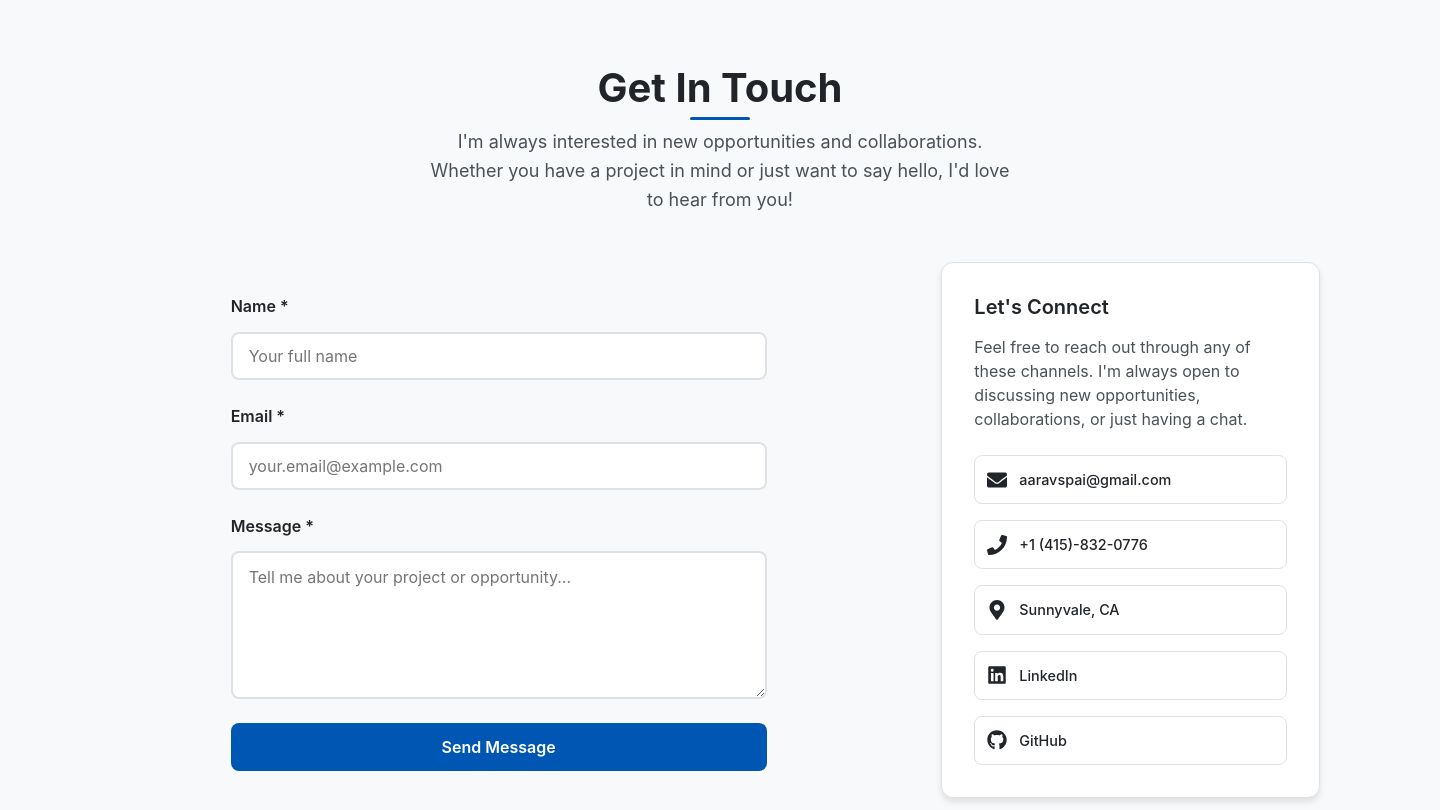
Scenario: Contact › Form Submission Error › shows error message on submission failure
The image size is (1440, 810).
In the field labelled "Name *": (499, 356) 231,332 -> 767,380, type "John Doe"
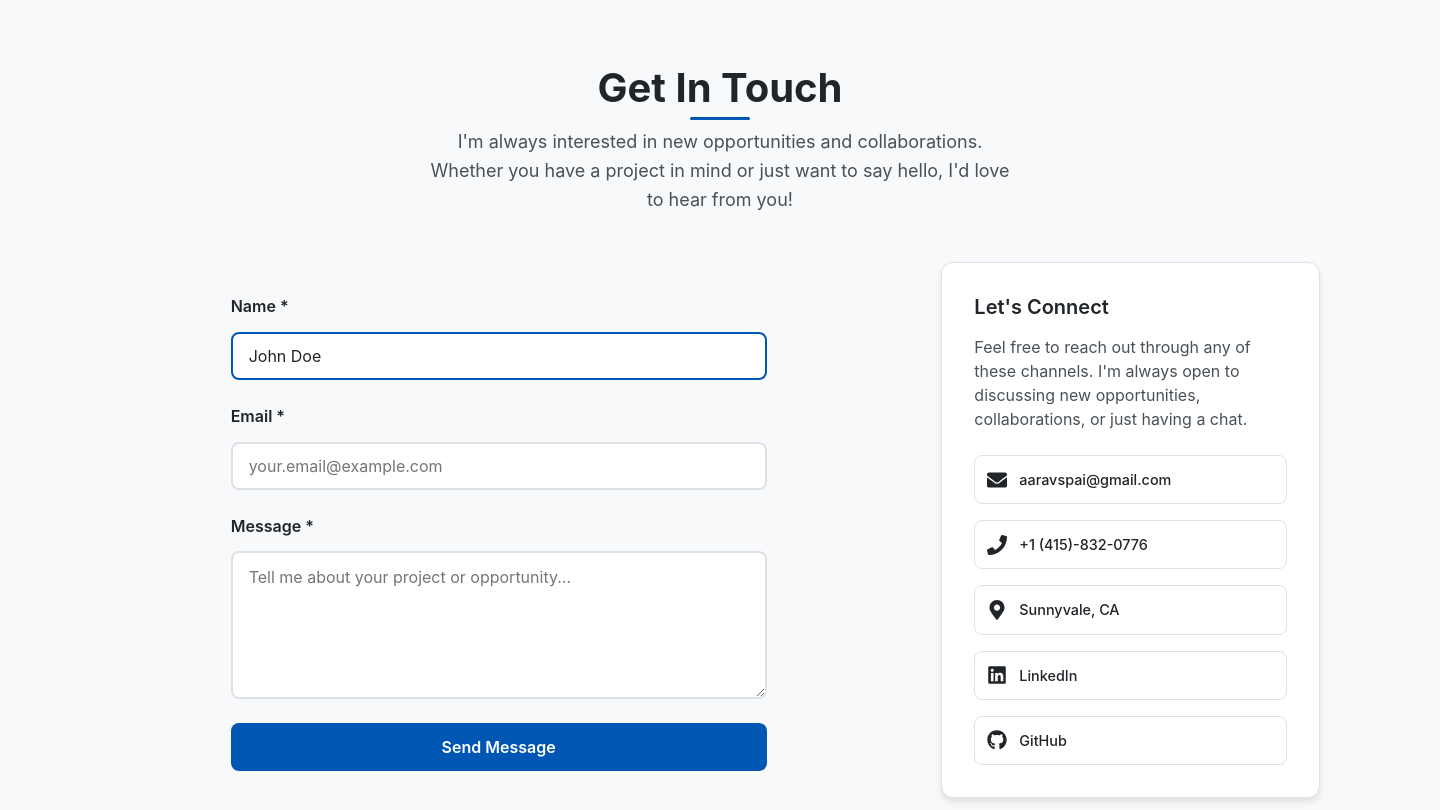
In the field labelled "Email *": (499, 466) 231,442 -> 767,490, type "john@example.com"
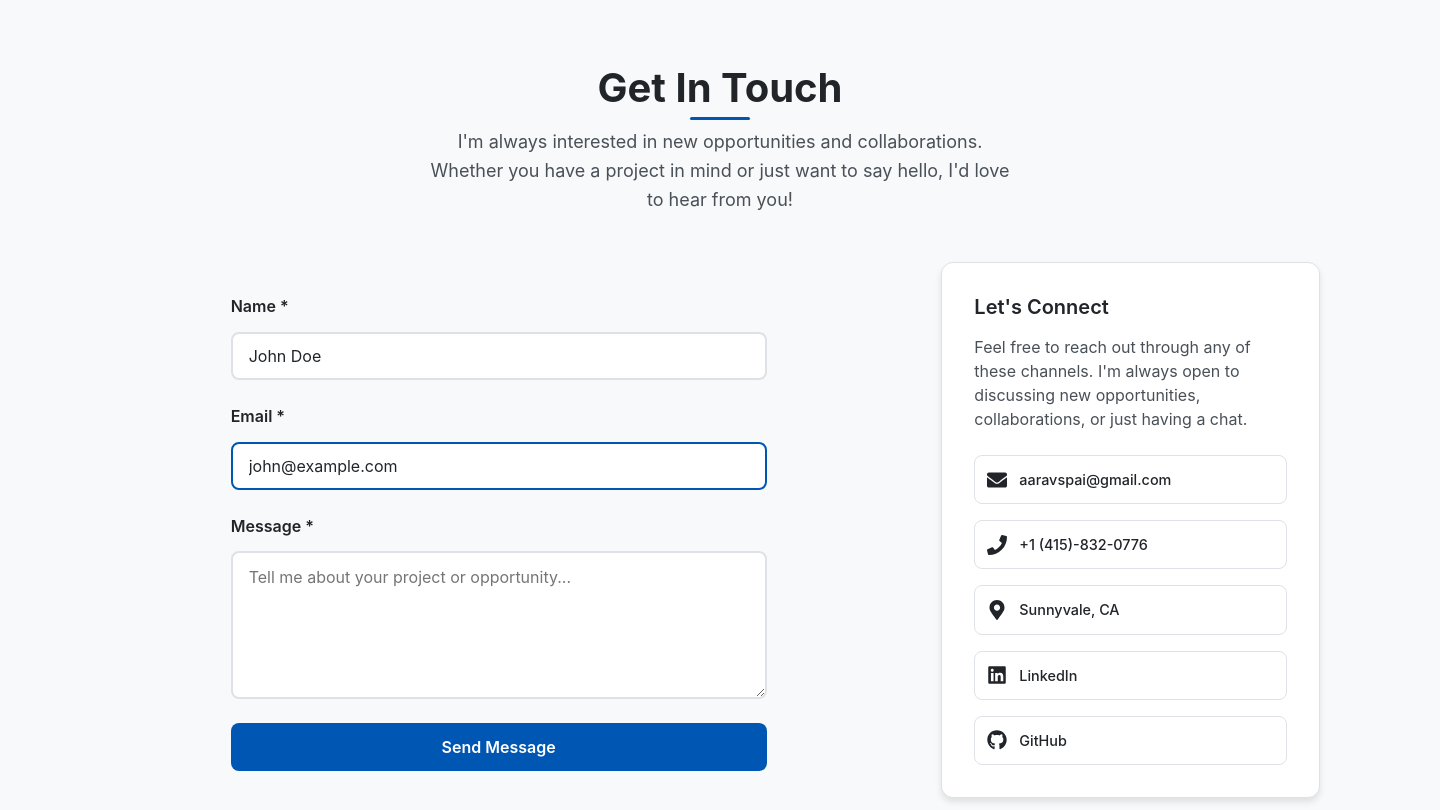
In the text box labelled "Message *": (499, 625) 231,551 -> 767,699, type "This is a test message with enough characters."
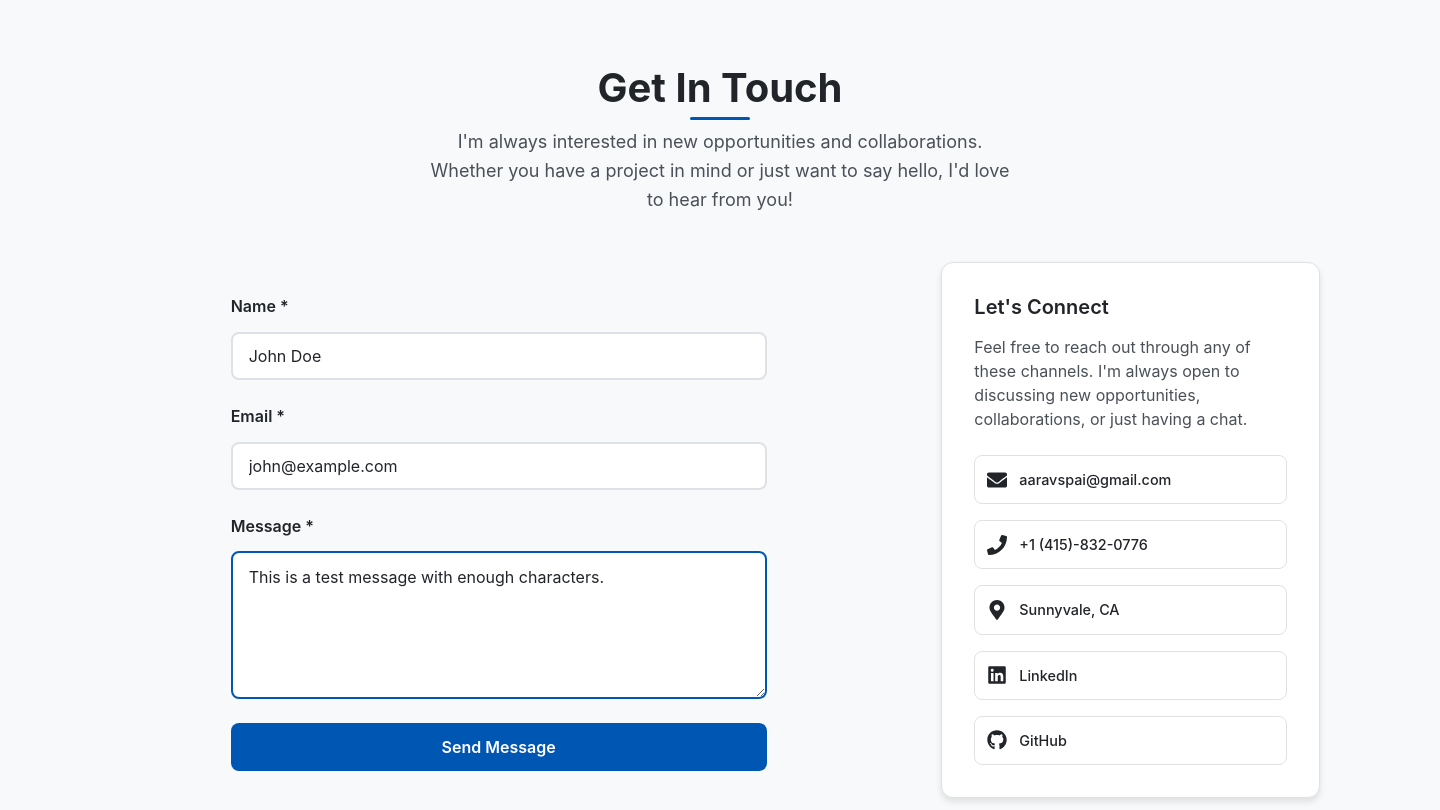
Click the button "Send Message": (499, 747) 231,723 -> 767,771
(page scrolled)
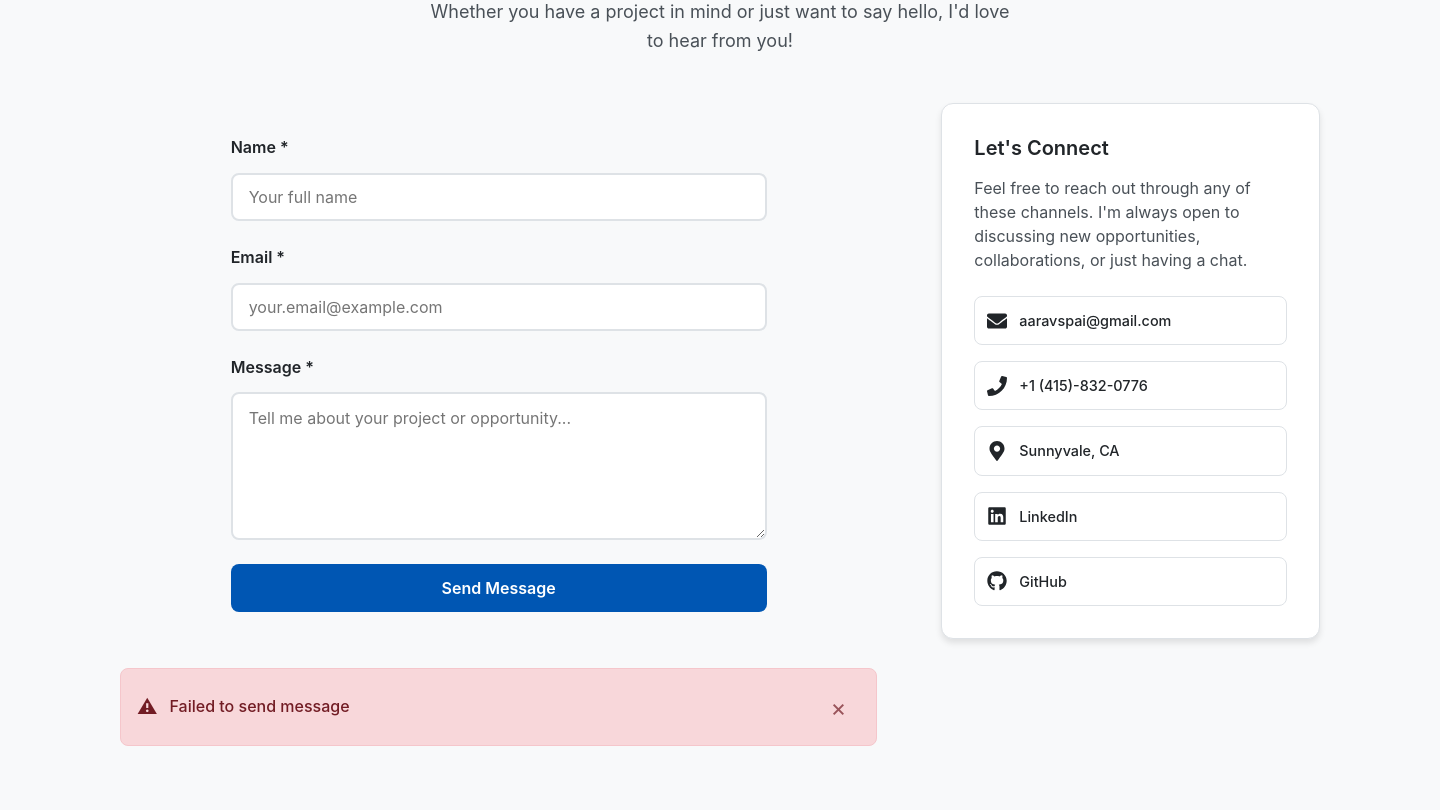
Expected: the text "Failed to send message" is shown, 170,696 -> 350,716
